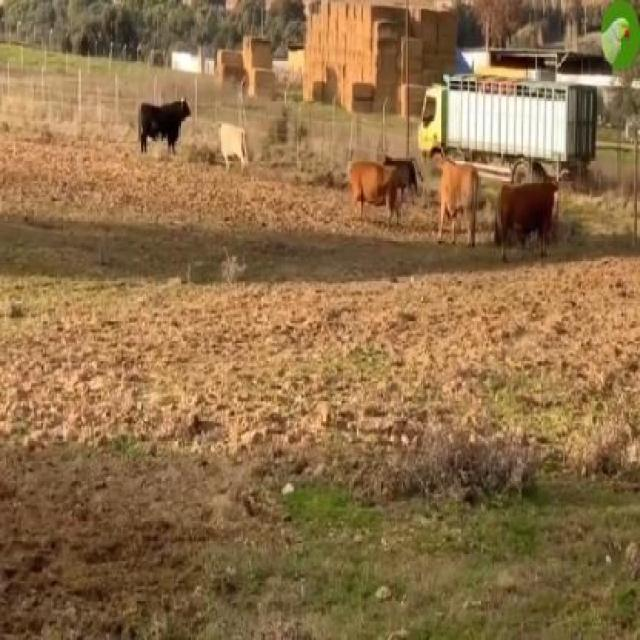Cow: (498, 184, 556, 258), (351, 158, 402, 232), (138, 100, 191, 162)
